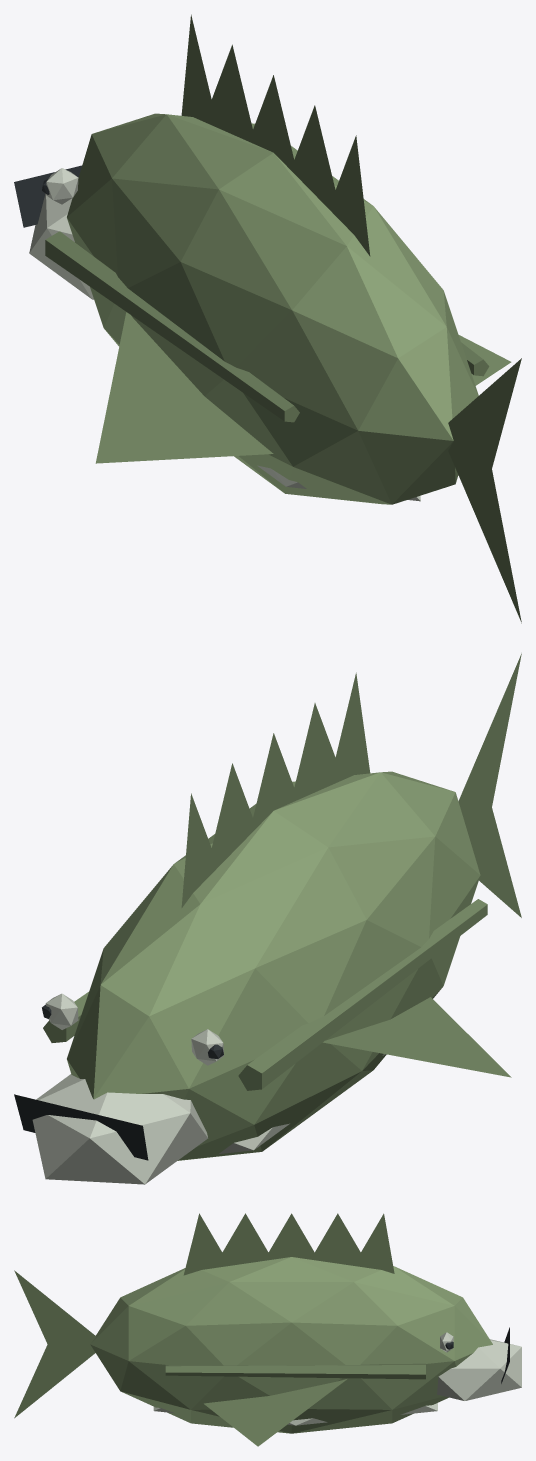
The model's file is Bass.fbx.
3 renders of one model, top to bottom at view 1: azimuth 30°, elevation 25°; view 2: azimuth 150°, elevation 25°; view 3: azimuth 270°, elevation 25°, orthographic. The views are drawn at different scales.
Parts seen in each view (by area): view 1: Body, Pectoral1, SpinedDorsal, TailFin, LateralBand1, Jaw, MouthOpening, Eye1, Pectoral-1; view 2: Body, Jaw, SpinedDorsal, LateralBand1, Pectoral1, TailFin, MouthOpening, Eye-1, Eye1, LateralBand-1, Belly; view 3: Body, SpinedDorsal, TailFin, Pectoral-1, Jaw, LateralBand-1, Belly.
Boxes of the visible parts, x1,y1,x2,y2 form: Body: [67, 113, 478, 504]; Pectoral1: [95, 312, 273, 463]; SpinedDorsal: [181, 14, 370, 256]; TailFin: [448, 358, 521, 623]; LateralBand1: [45, 231, 299, 422]; Jaw: [29, 194, 93, 299]; MouthOpening: [14, 165, 82, 227]; Eye1: [45, 168, 78, 204]; Pectoral-1: [458, 335, 511, 385]; Body: [67, 771, 480, 1160]; Jaw: [32, 1074, 207, 1184]; SpinedDorsal: [181, 672, 370, 907]; LateralBand1: [238, 899, 487, 1090]; Pectoral1: [323, 997, 511, 1077]; TailFin: [458, 653, 521, 917]; MouthOpening: [14, 1094, 148, 1160]; Eye-1: [45, 993, 78, 1029]; Eye1: [191, 1029, 223, 1065]; LateralBand-1: [43, 992, 88, 1042]; Belly: [219, 1054, 384, 1153]; Body: [90, 1257, 492, 1433]; SpinedDorsal: [183, 1213, 394, 1275]; TailFin: [14, 1270, 96, 1418]; Pectoral-1: [204, 1379, 346, 1446]; Jaw: [437, 1339, 521, 1400]; LateralBand-1: [165, 1363, 425, 1379]; Belly: [153, 1403, 437, 1425].
Bounding box in the file's own units: 0.64 × 0.575 × 1.21.
